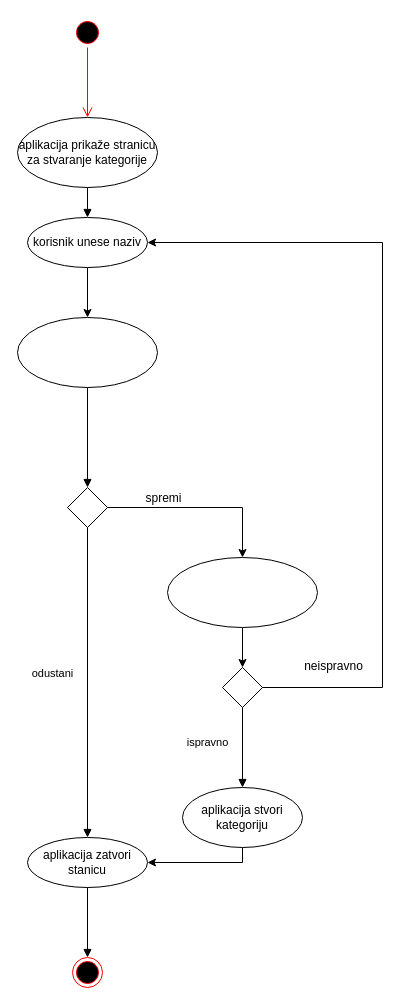
Some shapes in this 408 by 1005 pixel diagram are drawn without their labels. The centre of each missing label's shape, as x and y in pixels:
aplikacija provjeri ispravnost naziva i postoji li ta kategorija: pixel 242 592
korisnik odabire spremiti kategoriju ili odustati: pixel 87 352
